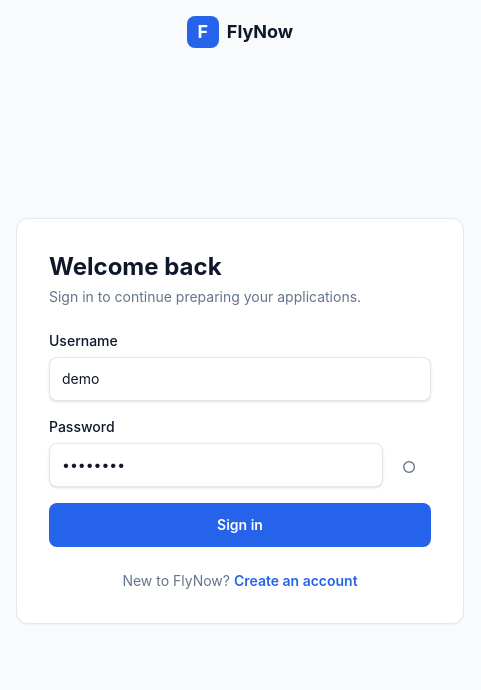
authentication › validates required login fields and reports invalid credentials
expect the heading "Welcome back" is shown: met, box [49,252,222,281]
Clear the field labelled "Username": x=240, y=379 [49,357,431,401]
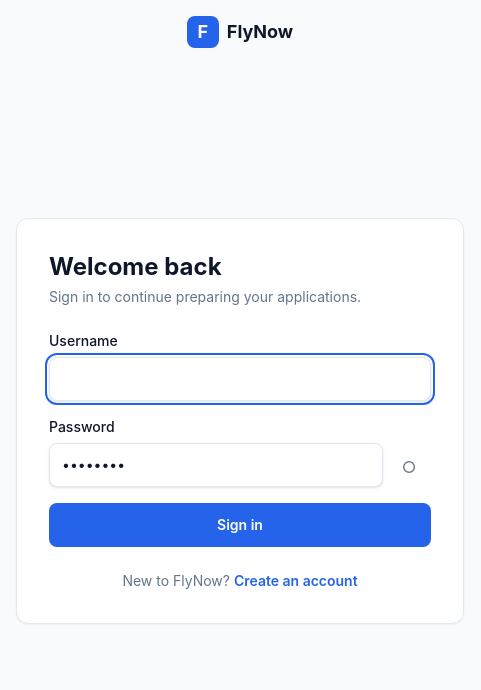
Clear the password field labelled "Password": x=216, y=465 [49,443,383,487]
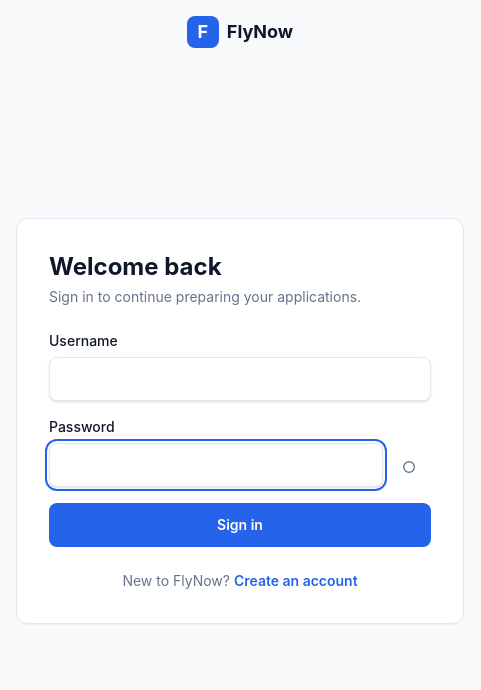
Click the button "Sign in": x=240, y=525 [49,503,431,547]
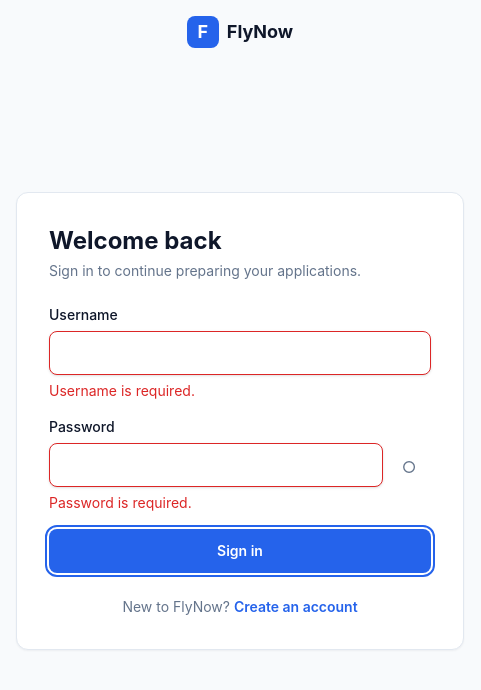
expect the text "Username is required." is shown: met, box [49,382,195,399]
expect the text "Password is required." is shown: met, box [49,494,192,511]
In the field labelled "Username": x=240, y=353 [49,331,431,375], type "unknown"
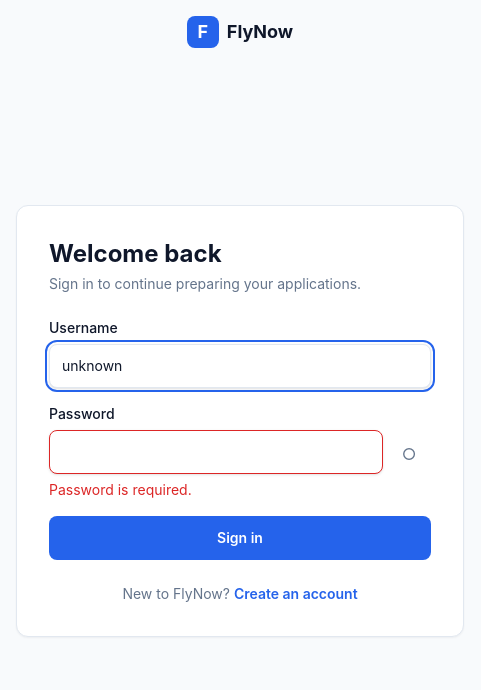
In the password field labelled "Password": x=216, y=452 [49,430,383,474], type "incorrect"
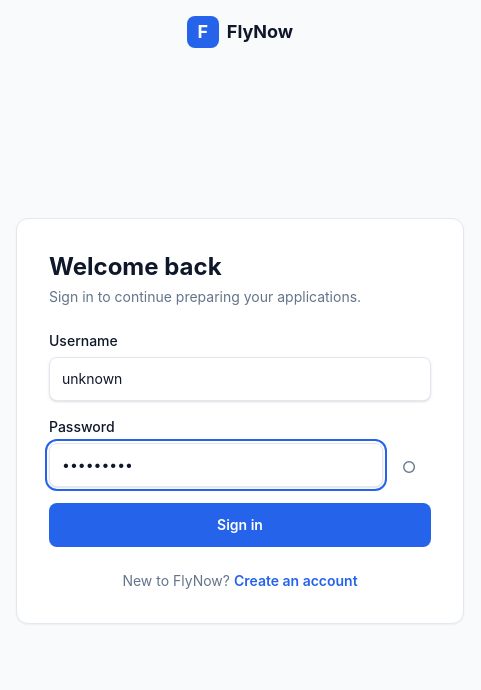
Click the button "Sign in": x=240, y=525 [49,503,431,547]
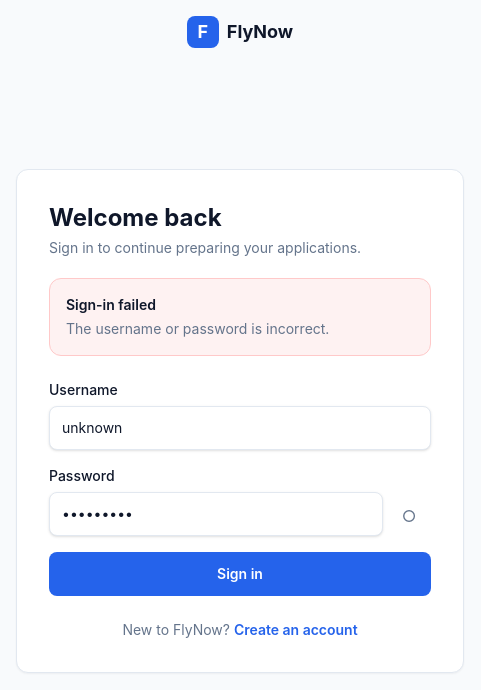
expect the message shows "username or password is incorrect": met, box [66,320,329,337]
